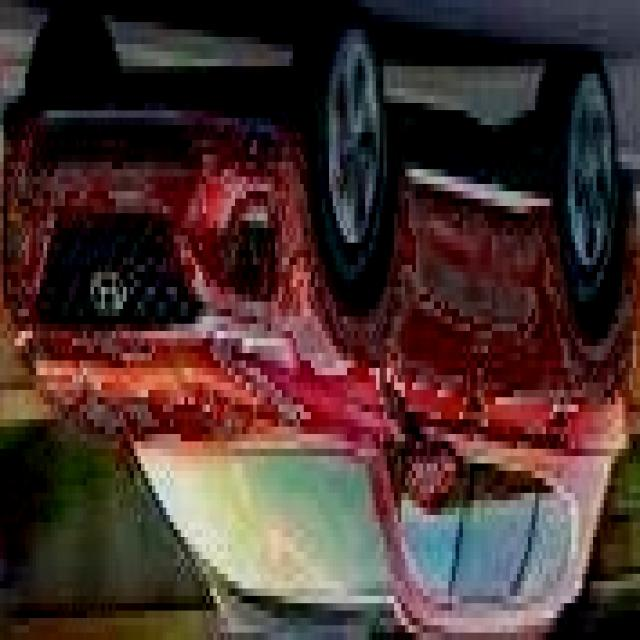maroon: (3, 92, 640, 629)
